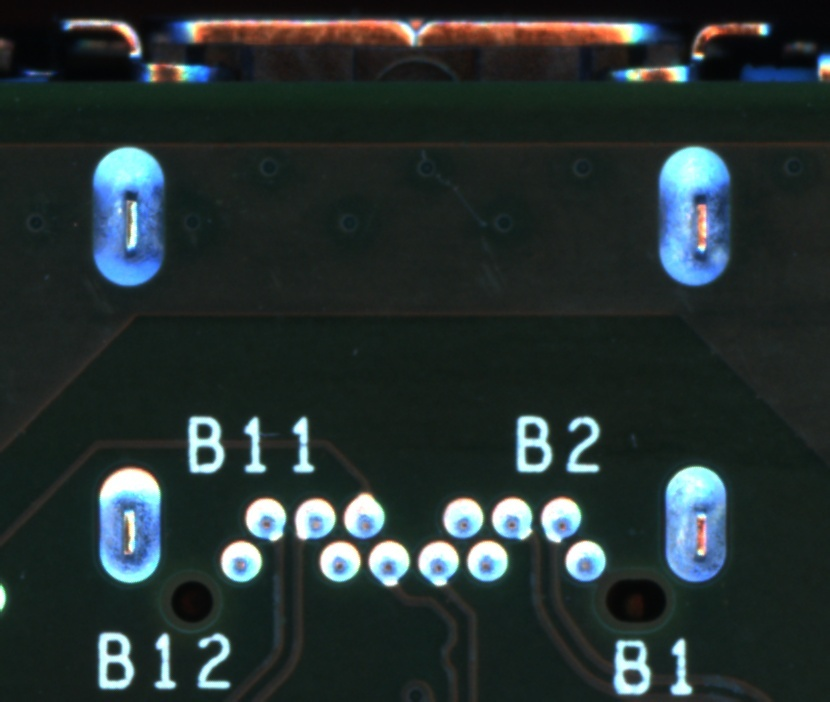SOLDER: (242, 495, 289, 544), (290, 494, 337, 543), (562, 536, 609, 585), (315, 539, 362, 588), (536, 495, 583, 543), (463, 537, 510, 585), (364, 539, 411, 587), (340, 490, 386, 539), (439, 493, 485, 542), (415, 539, 461, 588), (218, 537, 264, 586), (489, 494, 535, 542)
SOLDER2: (83, 140, 174, 295), (81, 451, 172, 605), (650, 139, 740, 293), (649, 446, 739, 600)
